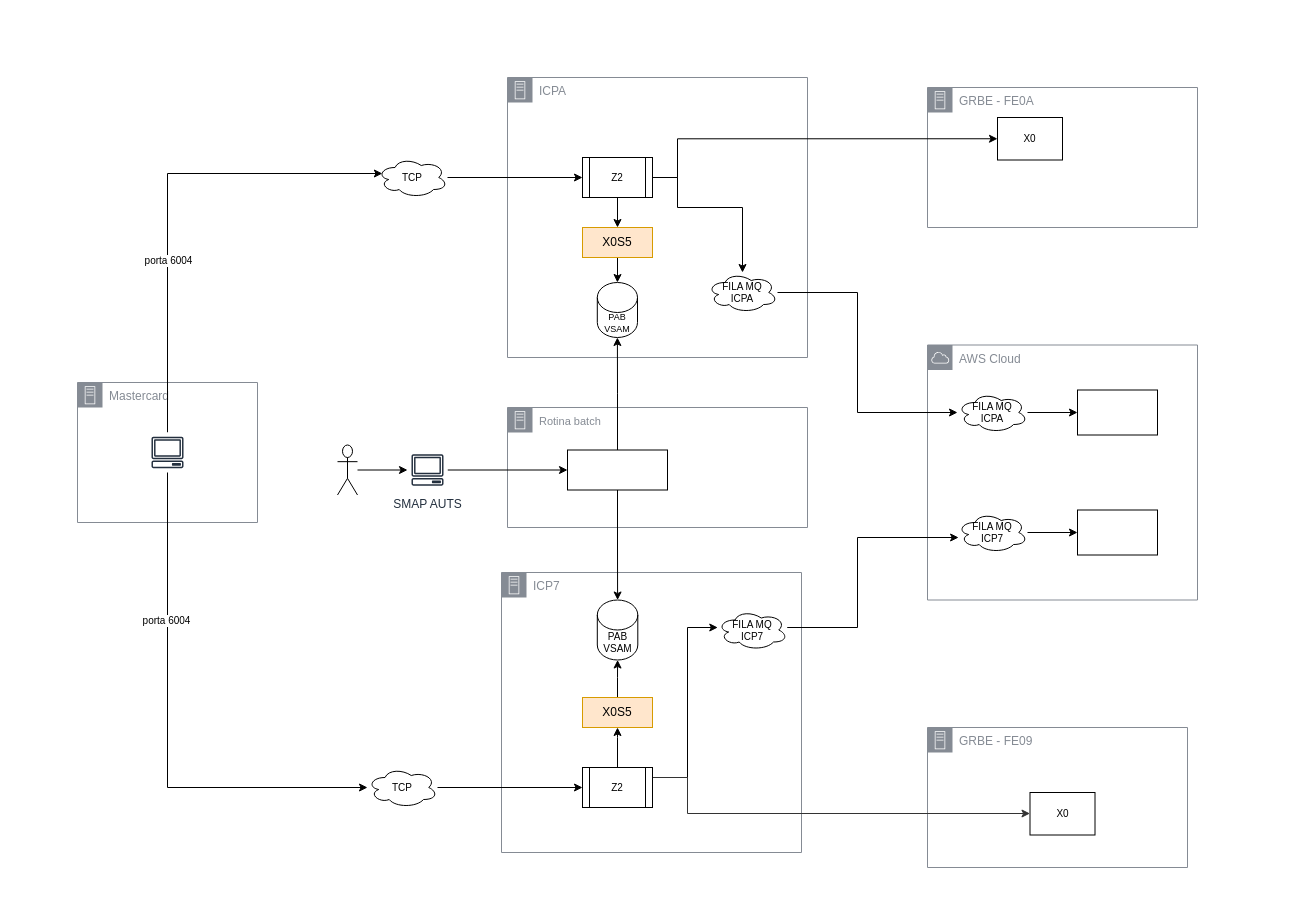
Image size: 1315x905. Some labels were removed from this diagram. The shapes that lost their labels are listed below. From the top down, each one's centre as x and y in pixels, then its label:
At point 1117,412: "Router CICS (shard ICPA)".
At point 167,452: "MIP".
At point 617,469: "X00BPAB".
At point 1117,532: "Router CICS (shard ICP7)".
